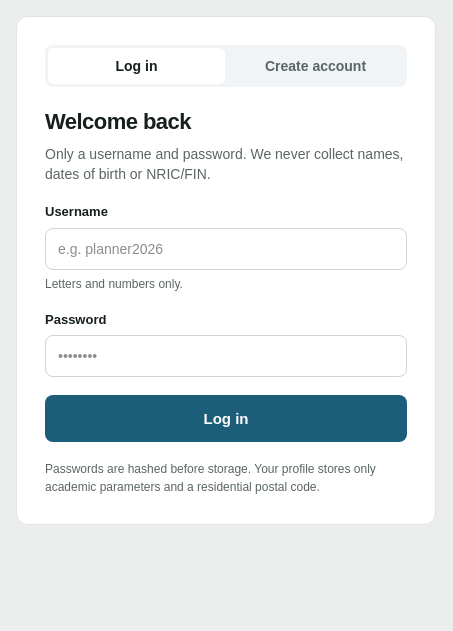
Test case: LoginView (UC-2.1, UC-2.2) › create account › switches the same card to registration
Click the button "Create account" at (316, 66), box [227,48,404,84]
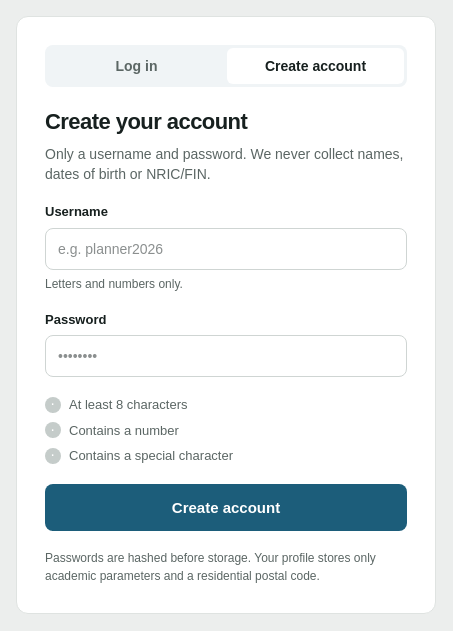
Check: the heading "Create your account" is shown, box [45,109,247,134]
Check: the submit button reads "Create account", box [45,484,407,531]
